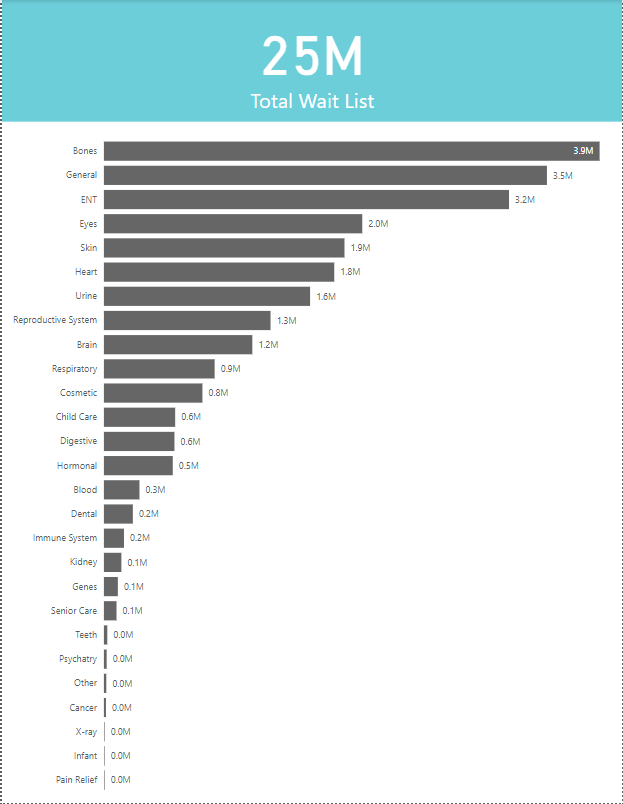

The page's visual inventory and layout, read from the dashboard file:
{"tool":"powerbi","page":{"name":"Drill Down","canvas":[816,1056],"ordinal":2},"visuals":[{"type":"barChart","title":"Speciality Group Break  up","fields":{"Category":["Mapping_Specialty.Specialty Group"],"Y":["Sum(All_Data.Total)"]},"box":[0,160,816,896],"z":0},{"type":"card","fields":{"Values":["Sum(All_Data.Total)"]},"box":[0,0,816,160],"z":1000}]}

Visuals, with their boxes in screenshot pixels (x1, y1, x2, y2), scaled from the page's 816x1056 canvas onto the 623x804 screenshot:
"Speciality Group Break  up" barChart: box=[0, 122, 622, 803]
card - Sum(All_Data.Total): box=[0, 0, 622, 122]
